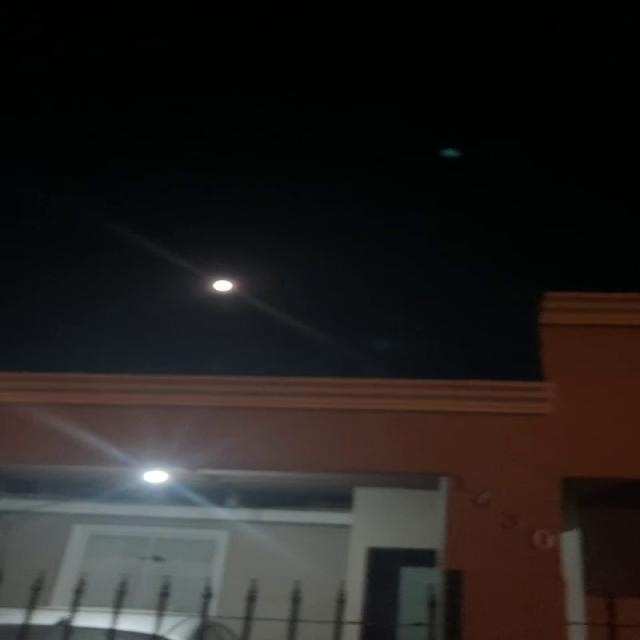moon: (199, 264, 251, 295)
